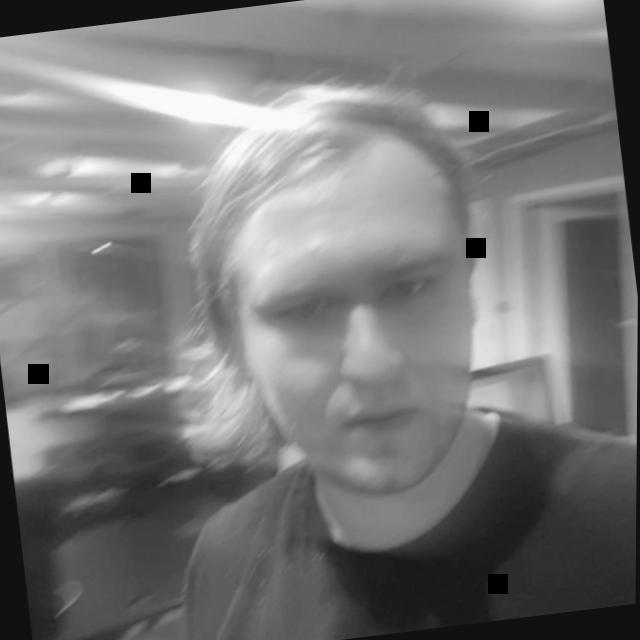NO-Mask: (125, 22, 563, 578)
